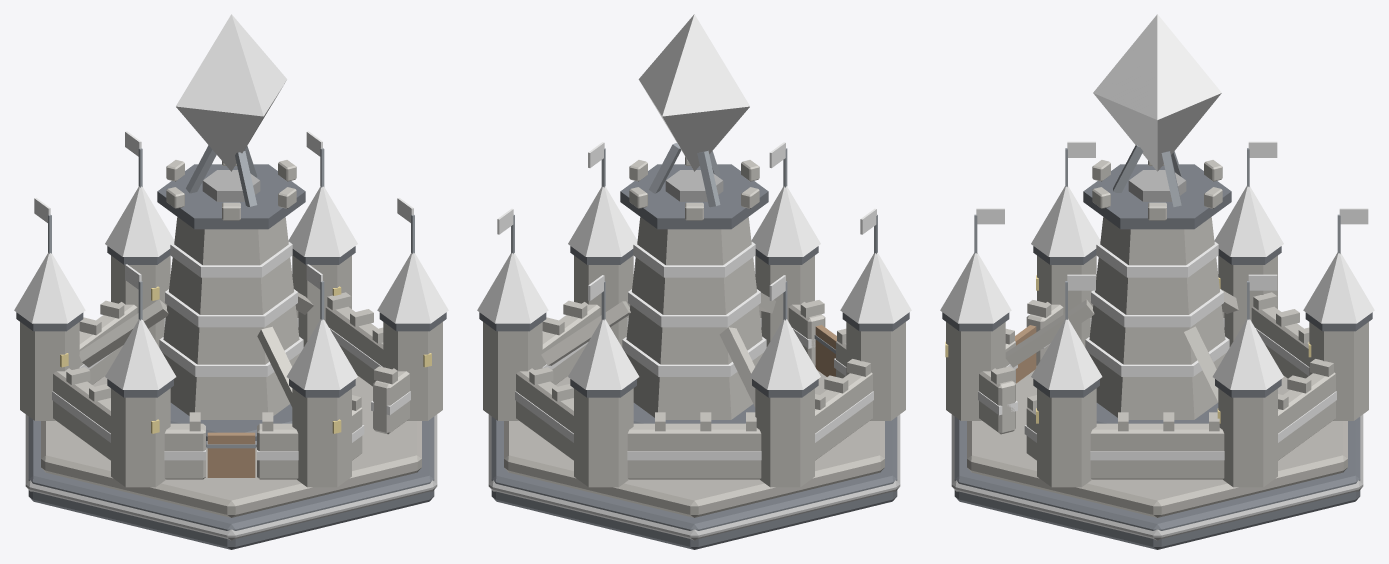
The model's file is core_2.glb.
3 renders of one model, left to right at view 1: azimuth 30°, elevation 25°; view 2: azimuth 150°, elevation 25°; view 3: azimuth 270°, elevation 25°, orthographic.
Visible parts, largest first — view 1: main, crystal; view 2: main, crystal; view 3: main, crystal.
Boxes of the visible parts, x1,y1,x2,y2 form: main: [14, 131, 448, 549]; crystal: [176, 14, 287, 171]; main: [477, 142, 911, 549]; crystal: [638, 14, 749, 171]; main: [940, 141, 1374, 549]; crystal: [1093, 14, 1221, 171].
Bounding box in the file's own units: 1.97 × 2.03 × 1.82.
